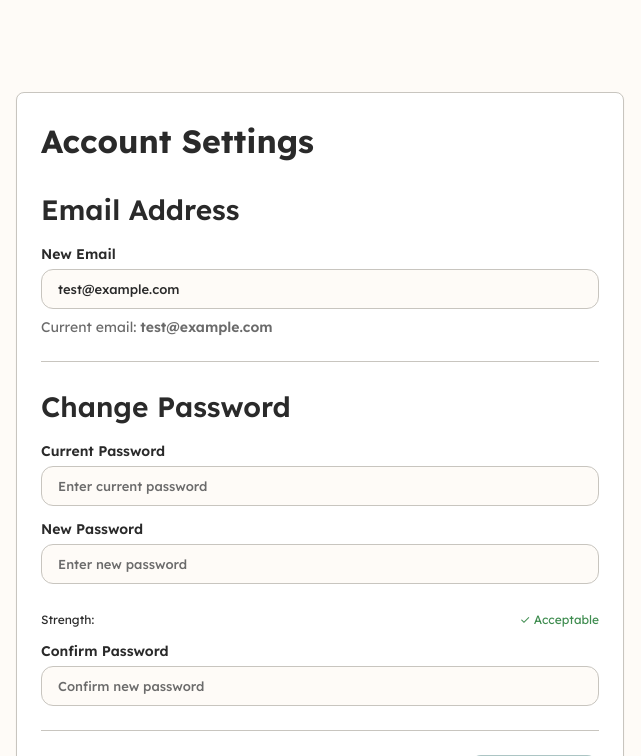
it: AccountSettingsPage › enables save button when email is changed
Replace the text in the field with placeholder "Enter new email" with "newemail@example.com". click: {"x": 320, "y": 289}
box: [41, 269, 599, 309]
(page scrolled)
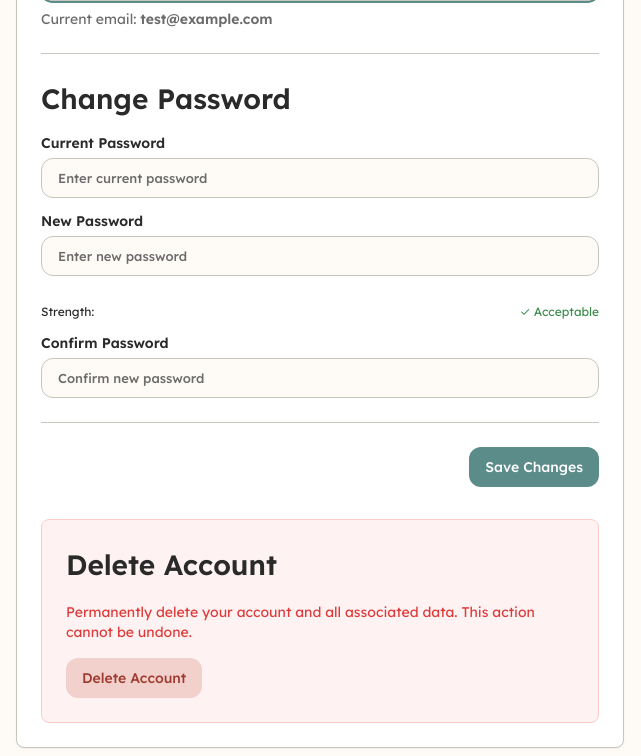
Expected: the button "Save Changes" is enabled, [469, 447, 599, 487]
